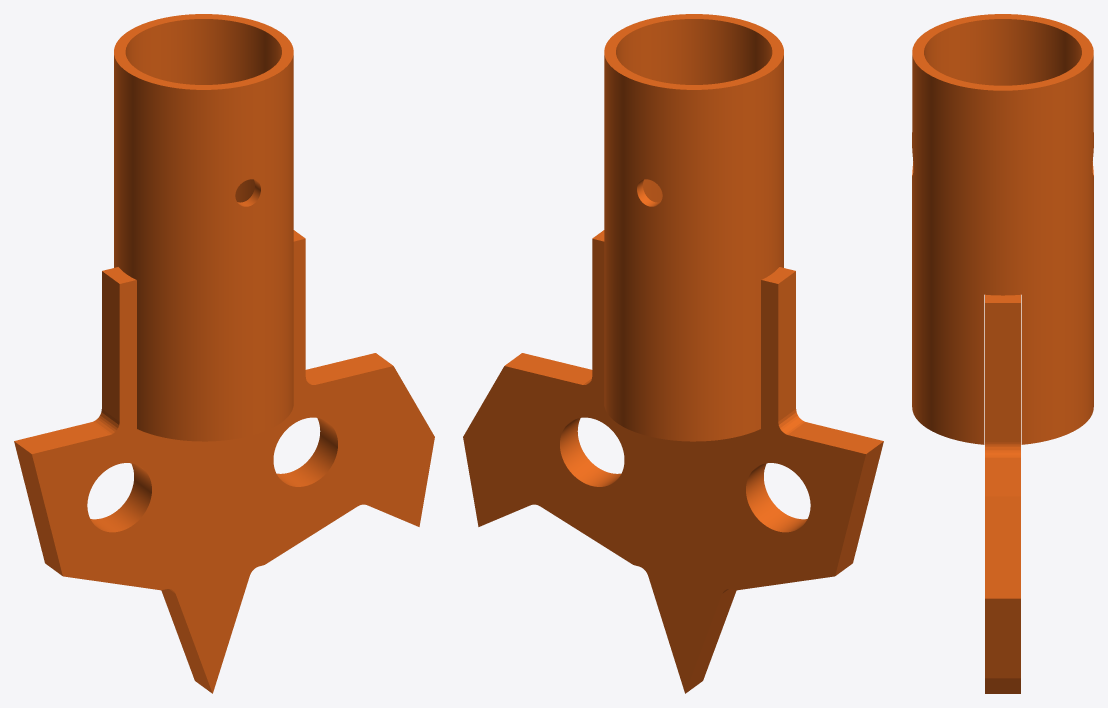
Rendered from 07_pie_garra.glb.
3 renders of one model, left to right at view 1: azimuth 30°, elevation 25°; view 2: azimuth 150°, elevation 25°; view 3: azimuth 270°, elevation 25°, orthographic.
Parts seen in each view (by area): view 1: 07_pie_garra; view 2: 07_pie_garra; view 3: 07_pie_garra.
Part boxes in pixels (x1=…): 07_pie_garra: x1=14, y1=14, x2=434, y2=693; 07_pie_garra: x1=463, y1=14, x2=883, y2=693; 07_pie_garra: x1=912, y1=14, x2=1093, y2=693.
Bounding box in the file's own units: 156 × 235 × 60.3.
